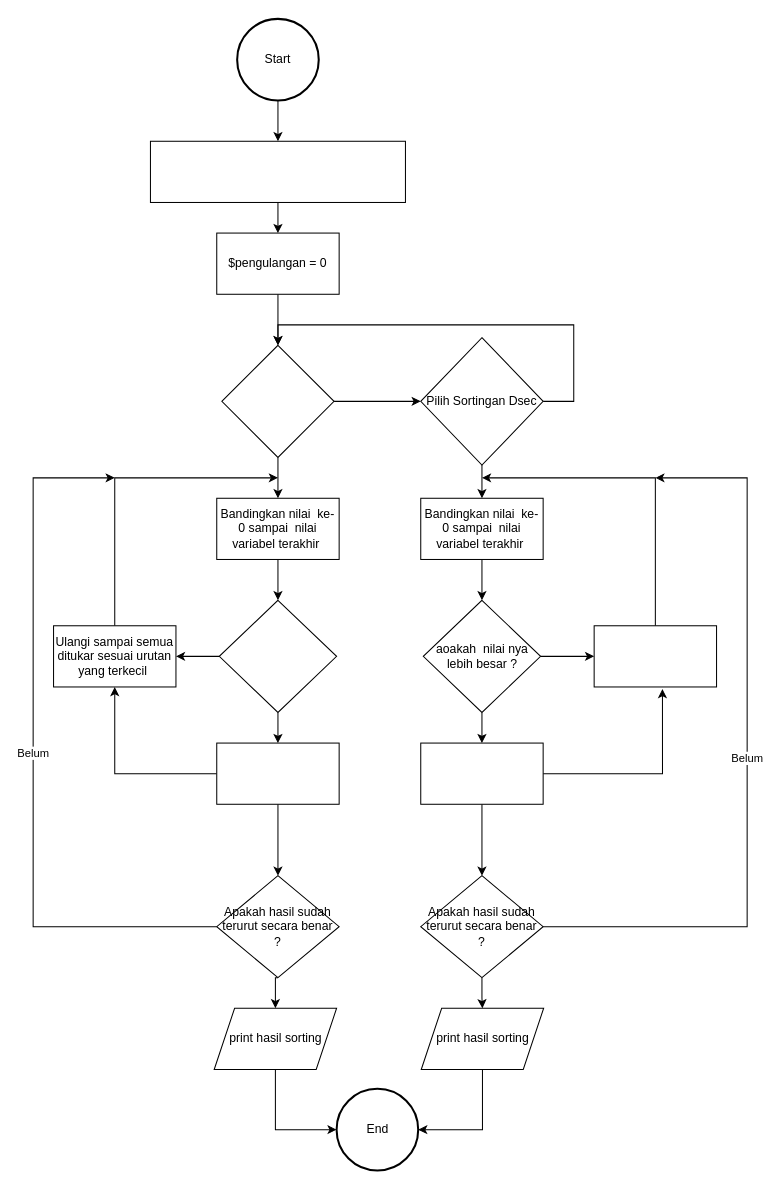
The diagram is 780 pixels wide and 1188 high, and some of its shapes have lost their labels. Each missing label, with the centre of its shape:
aoakah nilai nya lebih kecil ?: the point at 277,655
Deklarasi Variabel : $sorting = [4, -7, -5, 3, 3.3, 9, 0, 10, 0.2]: the point at 277,171
Pilih Sortingan Asc: the point at 277,400
tukar nilai dengan yang lebih besar: the point at 481,773
tukar nilai dengan yang lebih kecil: the point at 277,773
Ulangi sampai semua ditukar sesuai urutan yang terbesar: the point at 655,656
